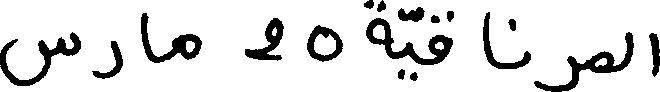X: (0, 27, 77, 90), (535, 51, 577, 91), (247, 13, 278, 65), (307, 20, 340, 66), (367, 0, 388, 60), (95, 36, 121, 83), (431, 6, 449, 69), (181, 29, 198, 64), (593, 46, 611, 77), (485, 7, 493, 70), (651, 28, 659, 81), (142, 8, 149, 64), (407, 5, 411, 84), (625, 27, 632, 71), (523, 46, 528, 70)
